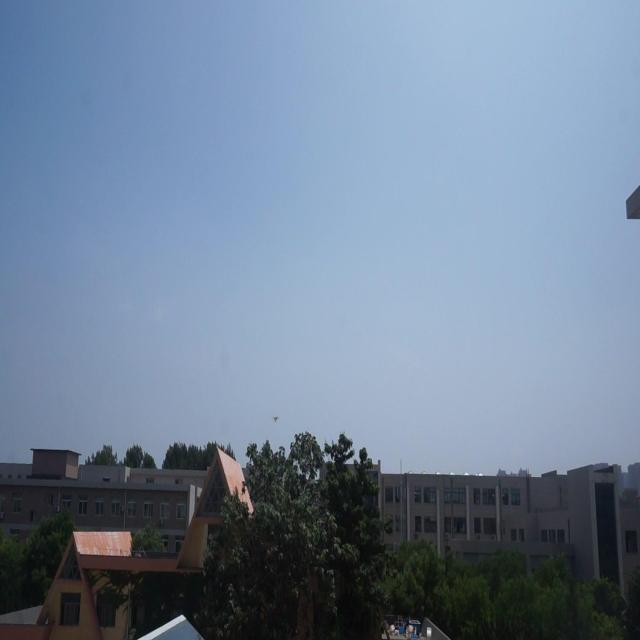drone: (272, 412, 281, 423)
